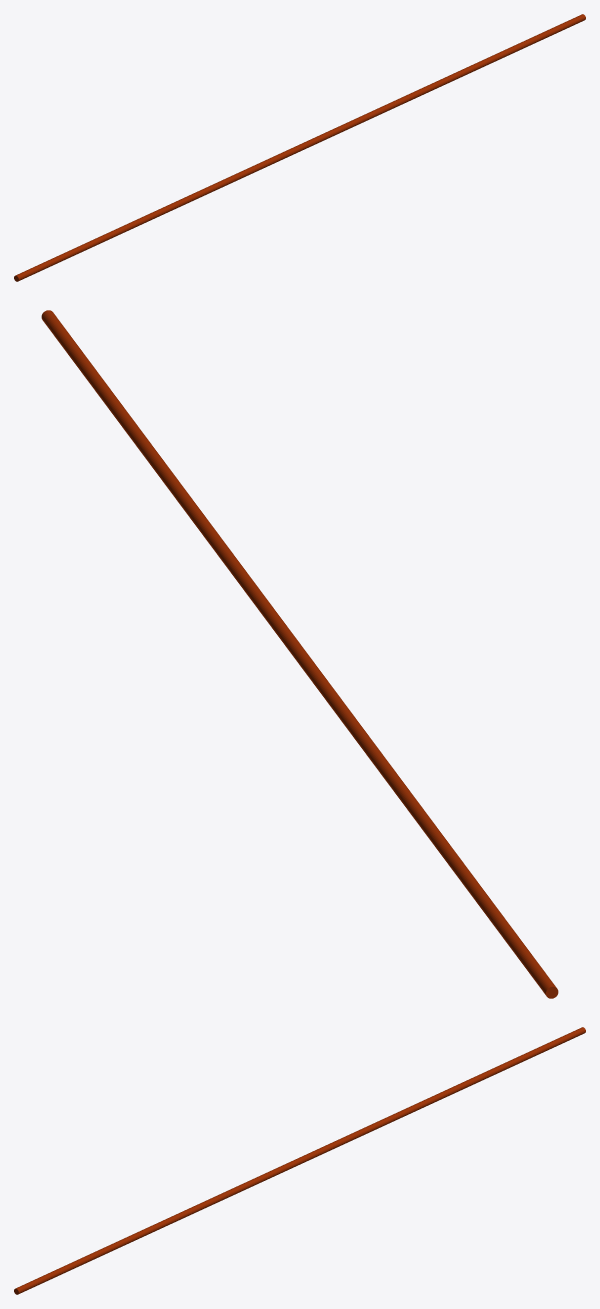
3 renders of one model, top to bottom at view 1: azimuth 90°, elevation 25°; view 2: azimuth 150°, elevation 25°; view 3: azimuth 270°, elevation 25°, orthographic. The views are drawn at different scales.
Parts seen in each view (by area): view 1: Cylinder.001; view 2: Cylinder.001; view 3: Cylinder.001.
Boxes of the visible parts, <box> form: Cylinder.001: <box>14,14,585,281</box>; Cylinder.001: <box>41,310,558,998</box>; Cylinder.001: <box>14,1027,585,1294</box>.
Bounding box in the file's own units: 5.39 × 0.0569 × 4.95.
